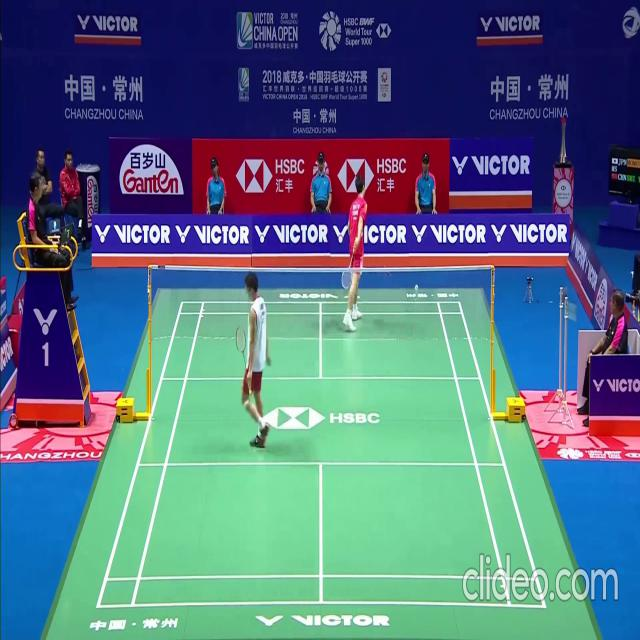Shuttlecock: (415, 285, 419, 292)
